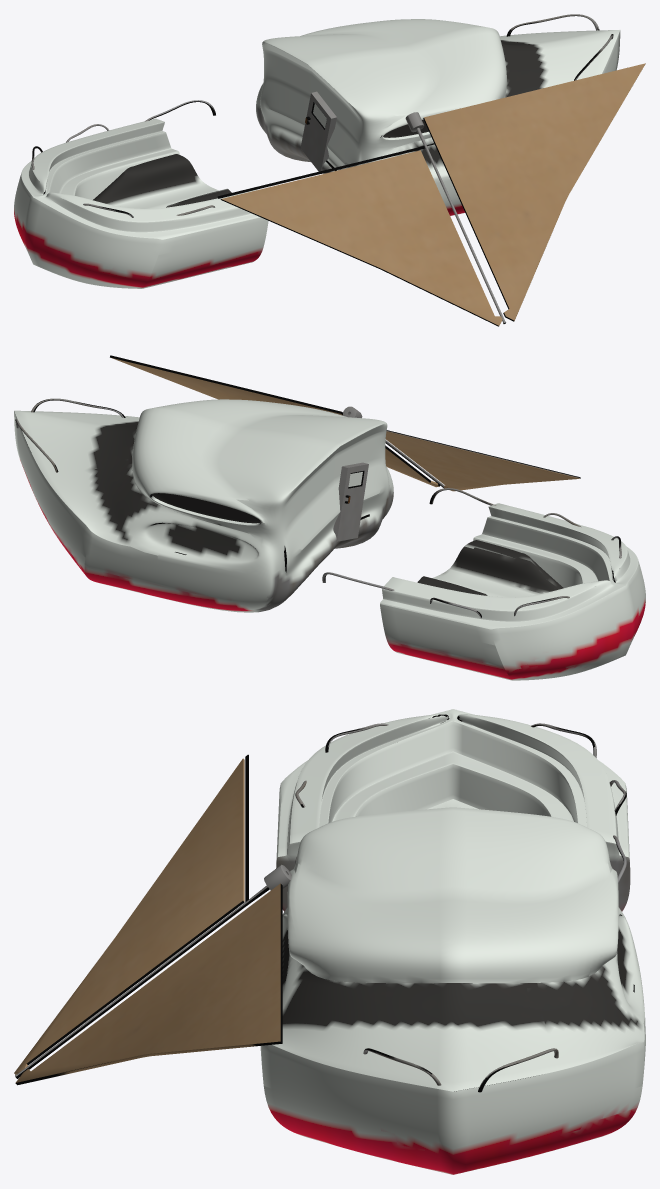
File: CarcacaDoVeleiro.fbx
The picture shows the model from 3 angles, top to bottom: view 1: azimuth 30°, elevation 25°; view 2: azimuth 150°, elevation 25°; view 3: azimuth 270°, elevation 25°; orthographic projection. The views are drawn at different scales.
Visible parts, largest first — view 1: CarcacaDoVeleiro_LOD0; view 2: CarcacaDoVeleiro_LOD0; view 3: CarcacaDoVeleiro_LOD0.
Boxes of the visible parts, bbox=[...] form: CarcacaDoVeleiro_LOD0: bbox=[14, 14, 645, 326]; CarcacaDoVeleiro_LOD0: bbox=[14, 355, 645, 680]; CarcacaDoVeleiro_LOD0: bbox=[14, 709, 645, 1174].
Size of what is drawn, in the model's own units: 1477 by 388 by 932.
